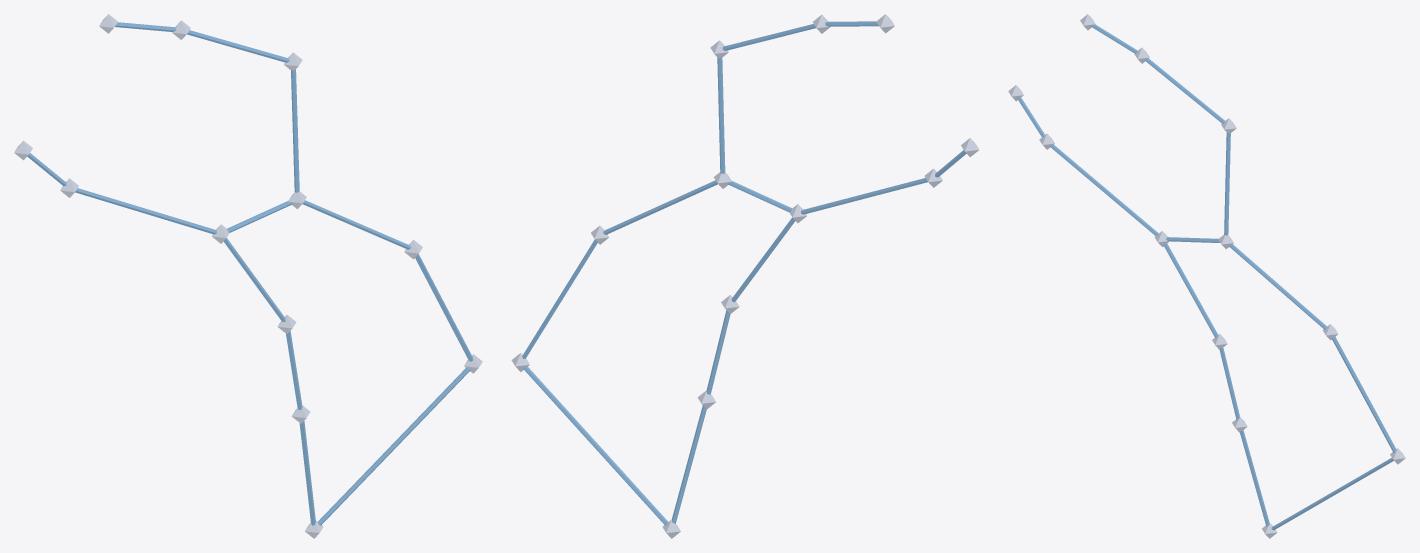
File: constellation-lup.glb
3 views of the same model, side by side, from view 1: azimuth 30°, elevation 25°; view 2: azimuth 150°, elevation 25°; view 3: azimuth 330°, elevation 25° (orthographic). The views are drawn at different scales.
Size of the model in its own units: 1.69 by 1.98 by 0.1772.
